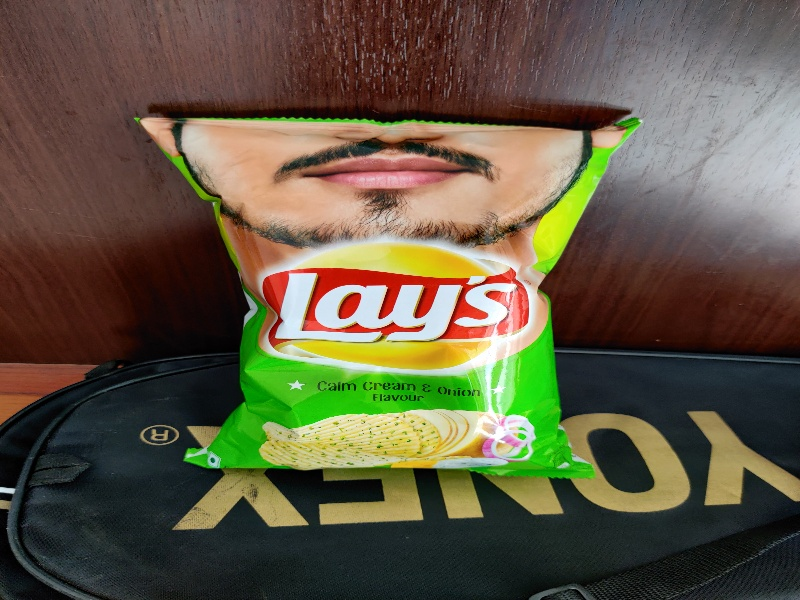lays: (128, 99, 629, 483)
